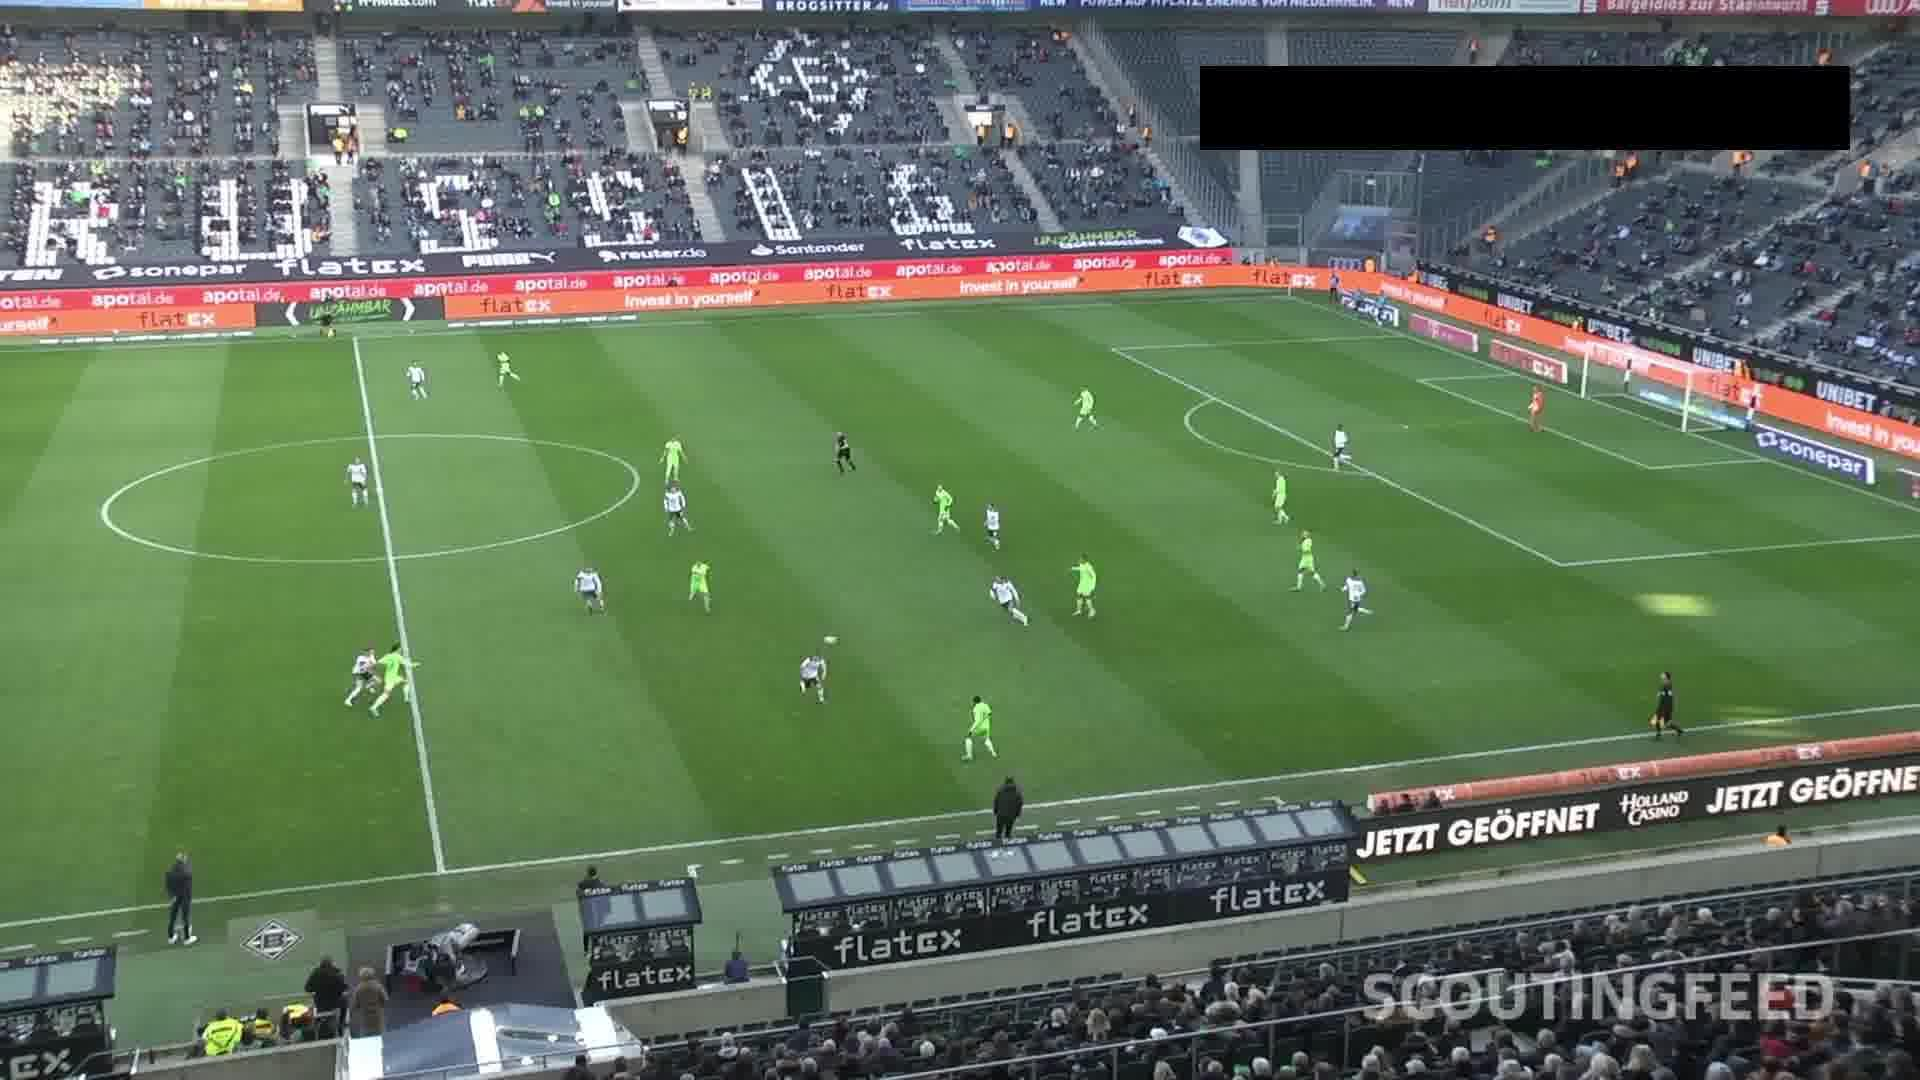football: (824, 636, 840, 646)
